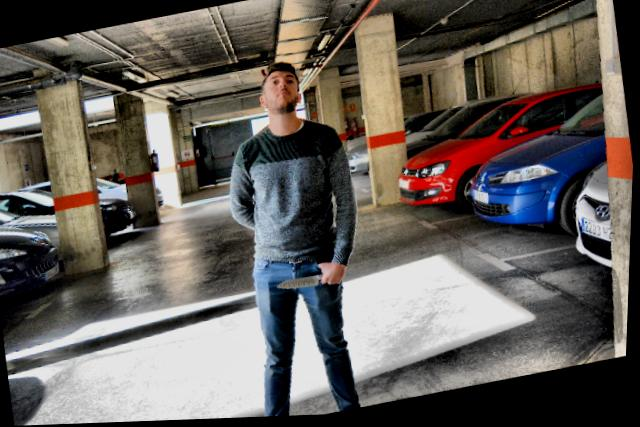knife: (275, 272, 331, 297)
